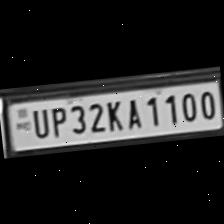0: (176, 88, 199, 122), (195, 86, 218, 119)
1: (140, 92, 164, 128), (160, 91, 178, 125)
2: (84, 99, 106, 134)
3: (66, 100, 88, 136)
A: (120, 94, 144, 130)
K: (102, 96, 124, 132)
P: (46, 102, 69, 137)
U: (28, 104, 50, 138)
